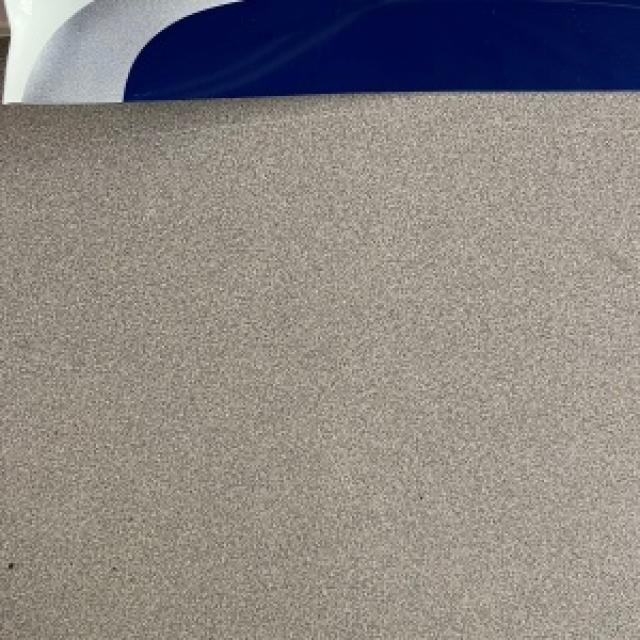healthy: (0, 90, 638, 638), (4, 0, 638, 100)
